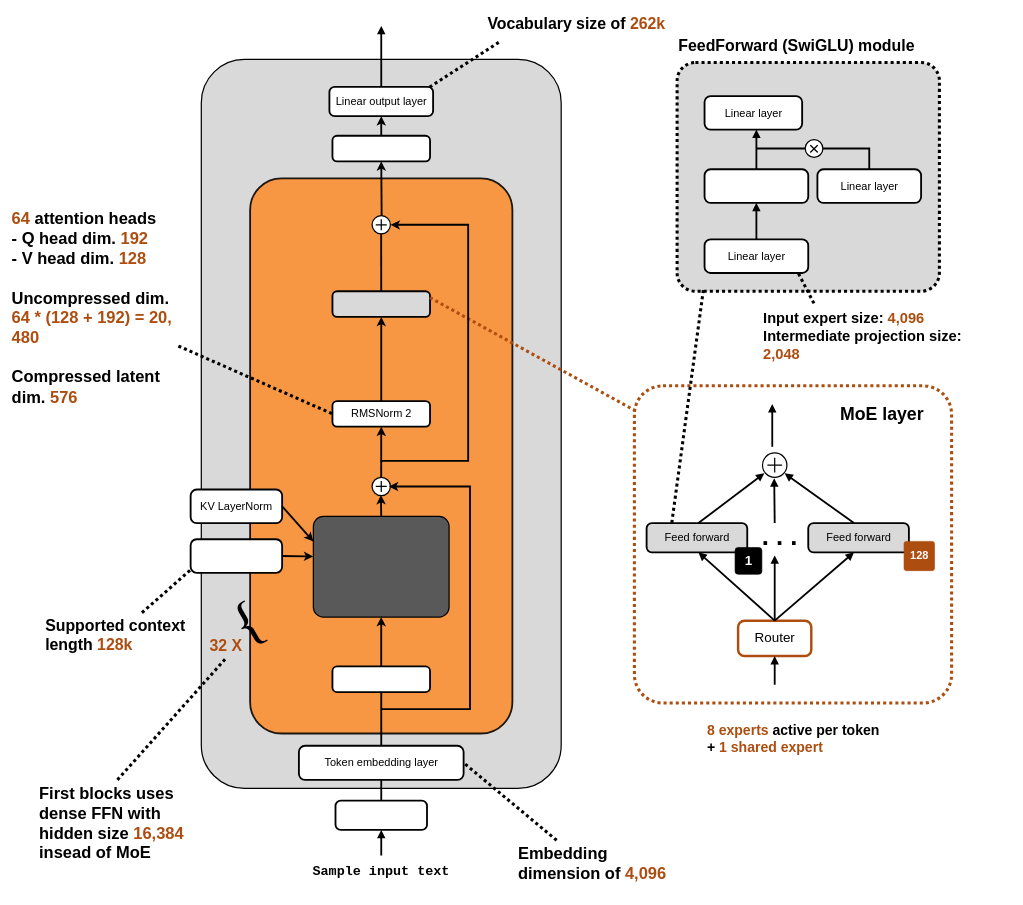
The diagram is 1023 pixels wide and 905 high, and some of its shapes have lost their labels. The shapes that lost their labels are listed below. From the top down, each one's centre as x and y in pixels, then its label:
At (381,148): "Final RMSNorm".
At (756,185): "SiLU activation".
At (381,304): "MoE".
At (236,555): "RoPE".
At (380,566): "Multi-Head Latent Attention(MLA)".
At (381,679): "RMSNorm 1".
At (381,815): "Tokenized text".
